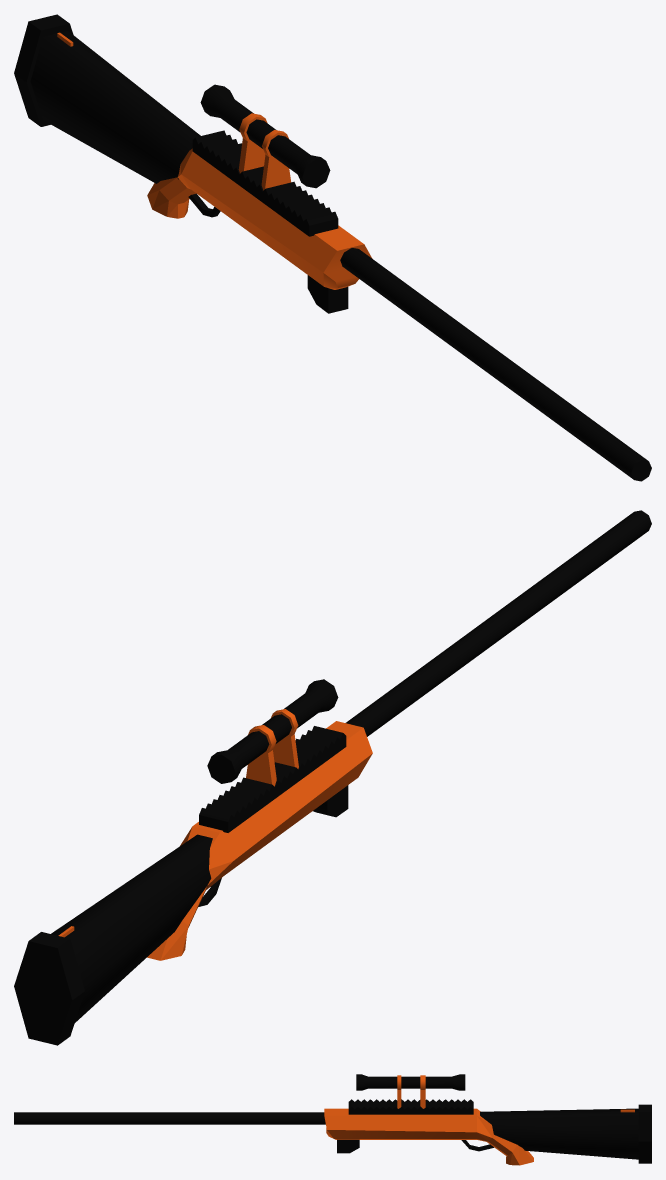
The model's file is Sniper_Vide.fbx.
The picture shows the model from 3 angles, top to bottom: view 1: azimuth 30°, elevation 25°; view 2: azimuth 150°, elevation 25°; view 3: azimuth 270°, elevation 25°; orthographic projection. The views are drawn at different scales.
Parts seen in each view (by area): view 1: Sniper; view 2: Sniper; view 3: Sniper.
Boxes of the visible parts, x1,y1,x2,y2 form: Sniper: [14, 14, 651, 481]; Sniper: [14, 510, 651, 1045]; Sniper: [14, 1074, 651, 1165].
Bounding box in the file's own units: 7.13 × 19.06 × 127.
